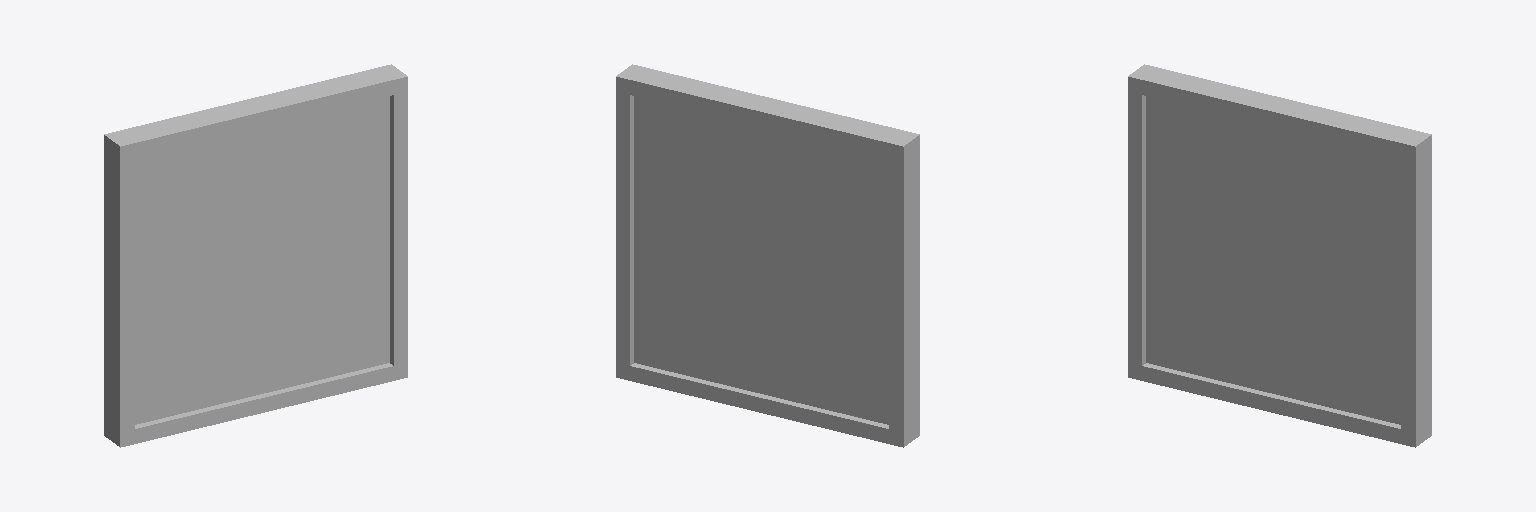
Rendered from door_test2.obj.
The picture shows the model from 3 angles: view 1: azimuth 30°, elevation 25°; view 2: azimuth 150°, elevation 25°; view 3: azimuth 330°, elevation 25°; orthographic projection.
Visible parts, largest first — view 1: Cube.001; view 2: Cube.001; view 3: Cube.001.
Boxes of the visible parts, <box> form: Cube.001: <box>104,64,407,447</box>; Cube.001: <box>616,64,919,447</box>; Cube.001: <box>1128,64,1431,447</box>.
Bounding box in the file's own units: 2 × 2 × 0.2.